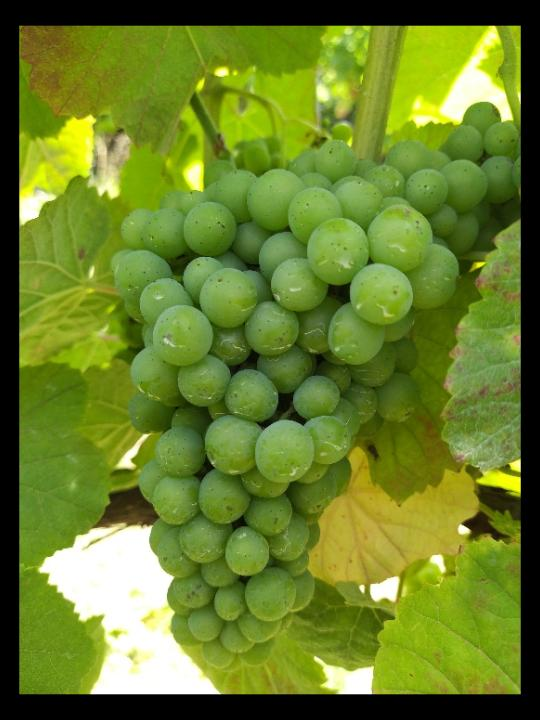grape: (103, 166, 467, 674)
